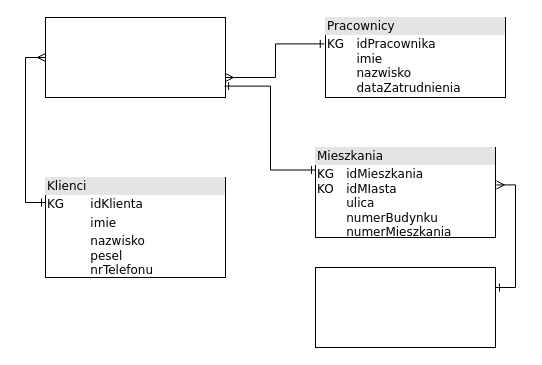
This 542x365 diagram has some shape labels left out. Here are the shapes that lost their labels. From the top down, the box of each, then its label:
(44, 16, 226, 98): Wynajem KG KO KO KO idWynajmu idKlienta idPracownika idMieszkania
(314, 266, 496, 348): Miasta KG idMiasta miasto kodPocztowy
